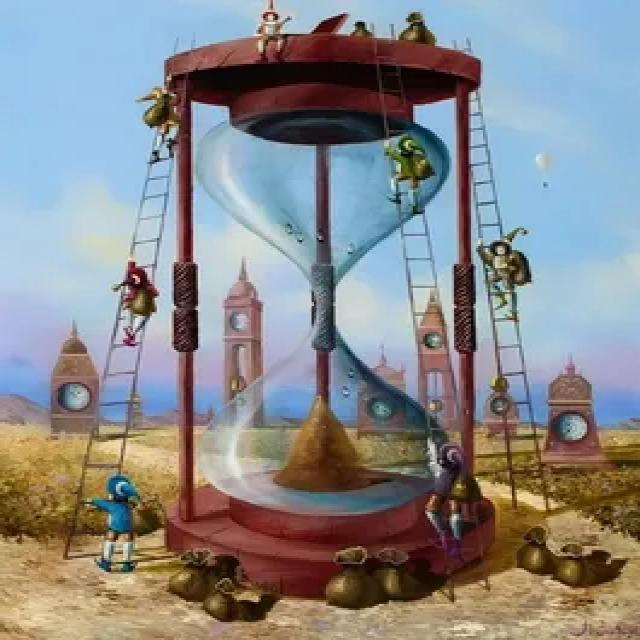clock: (149, 18, 519, 590)
